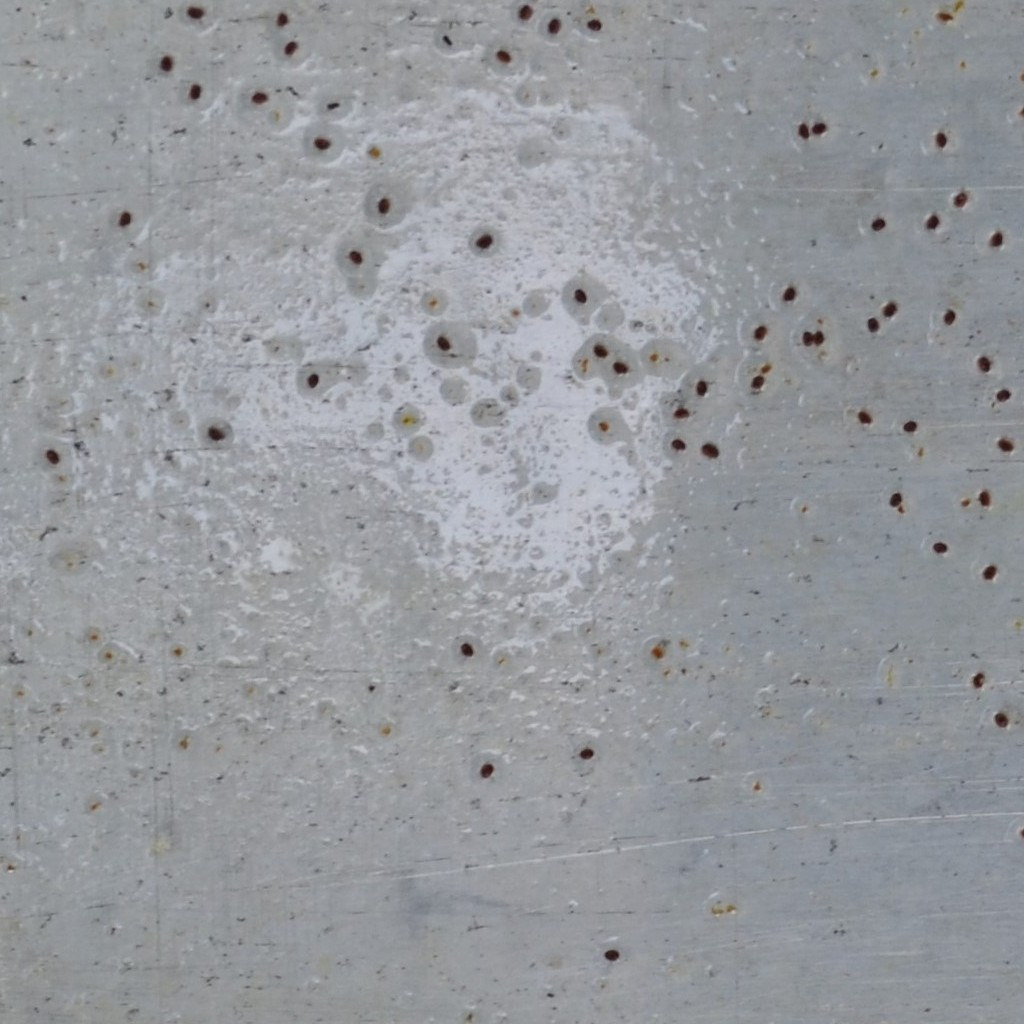varroa: (473, 228, 497, 256), (699, 438, 722, 463), (309, 134, 335, 154), (979, 560, 999, 585), (458, 638, 477, 664), (919, 212, 943, 232), (279, 36, 299, 60), (157, 52, 177, 76), (116, 207, 135, 232), (206, 420, 225, 444), (854, 406, 875, 427), (493, 43, 513, 65), (477, 760, 496, 783), (185, 4, 208, 23), (609, 359, 633, 377), (886, 488, 905, 510), (546, 15, 565, 37), (186, 80, 205, 102), (882, 297, 898, 323), (306, 369, 322, 395), (435, 332, 453, 355), (43, 445, 61, 468), (971, 667, 987, 692), (571, 284, 590, 305), (975, 486, 993, 508), (941, 306, 961, 325), (994, 386, 1014, 405), (583, 15, 603, 34), (576, 746, 596, 765), (347, 247, 366, 267), (251, 87, 270, 107), (975, 353, 993, 374), (993, 709, 1011, 730), (865, 314, 882, 336), (931, 539, 950, 558), (591, 341, 610, 360), (514, 3, 533, 22), (996, 434, 1014, 454), (809, 119, 829, 137), (751, 323, 769, 343), (669, 436, 690, 453), (951, 189, 970, 207), (749, 373, 768, 391), (781, 284, 798, 304), (602, 946, 623, 962), (375, 195, 391, 216), (933, 129, 948, 150), (275, 8, 290, 29), (796, 120, 810, 142), (670, 405, 692, 419), (986, 230, 1004, 247), (869, 216, 886, 234), (693, 377, 710, 395), (901, 418, 918, 435), (811, 328, 826, 346), (802, 327, 814, 348)
